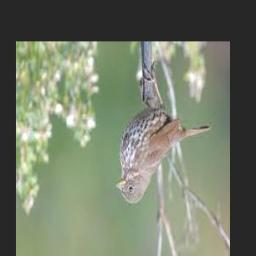Sparrow: (116, 62, 211, 204)
